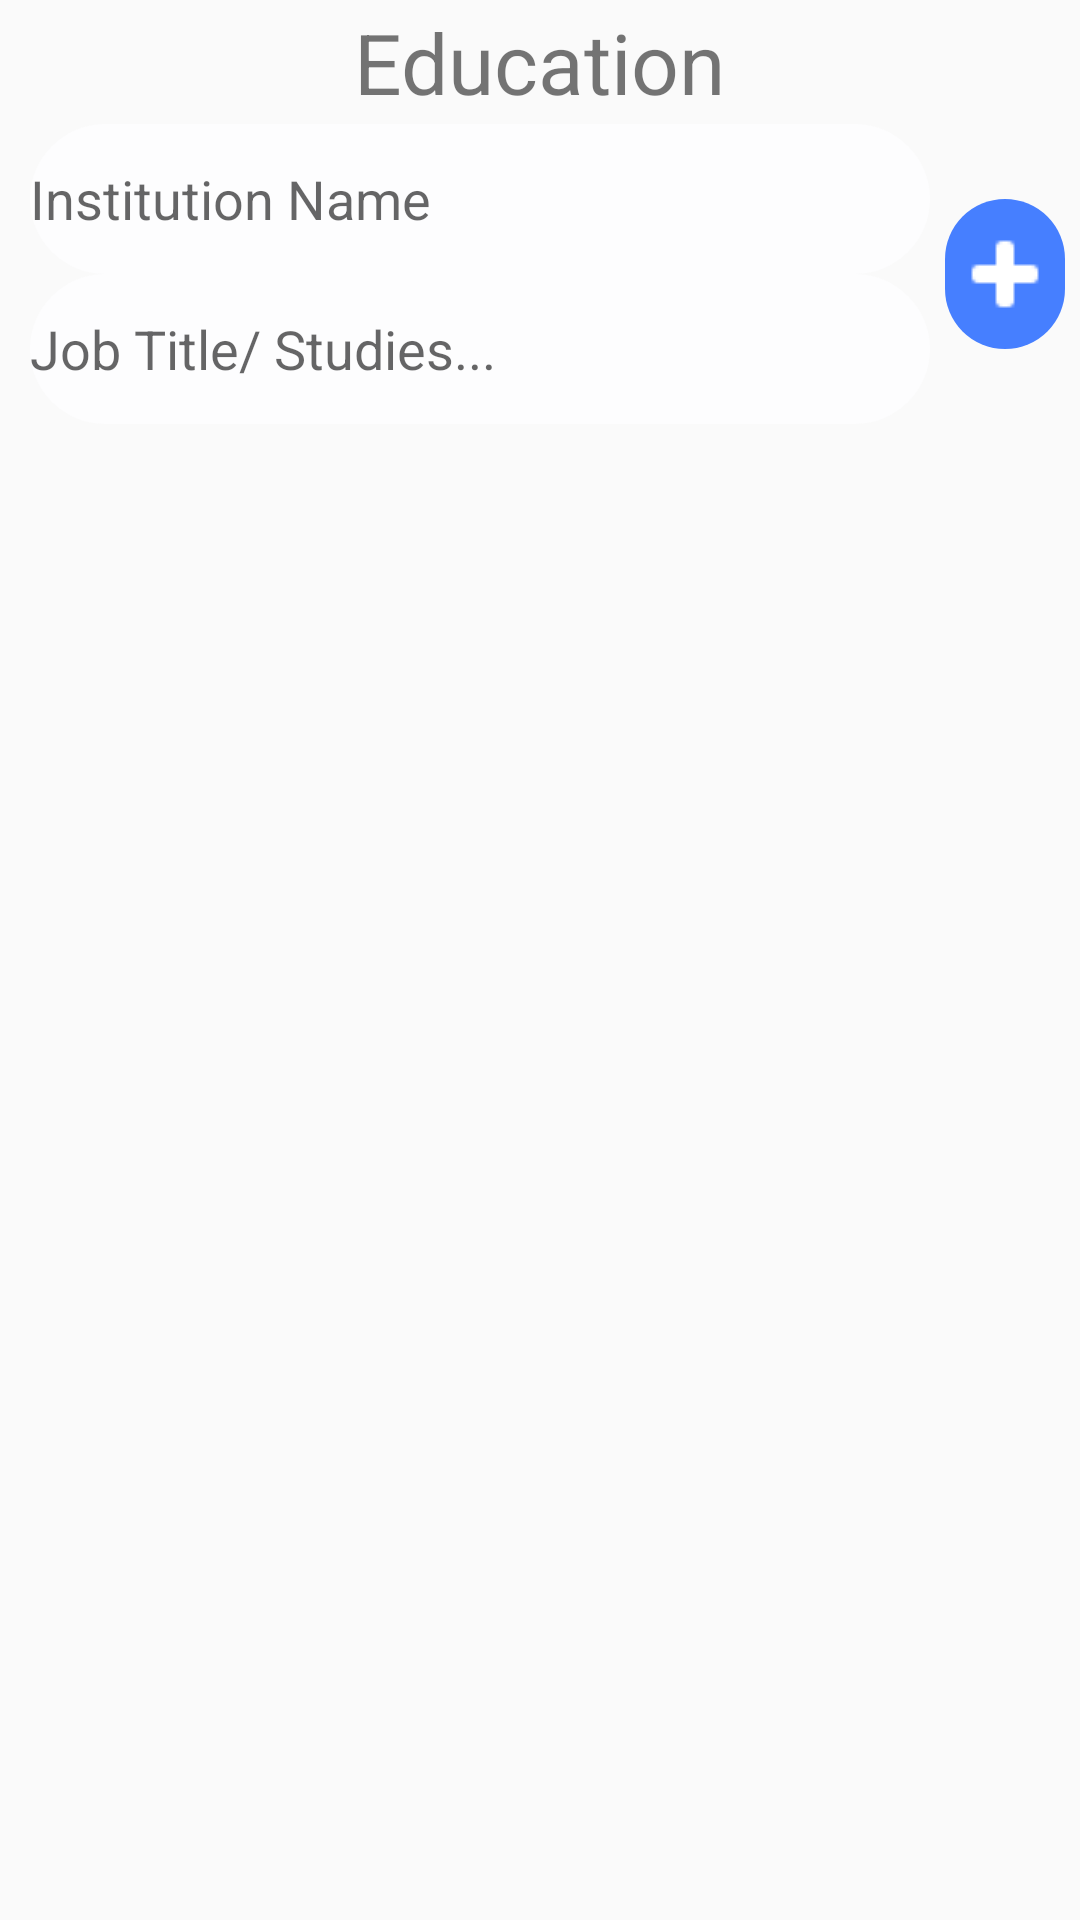

Screen size 1080px x 1920px. Icon name, then its center in pixels as (x,y):
plus: (1005,274)
